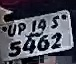1: (32, 19, 39, 33)
2: (51, 31, 64, 51)
4: (21, 36, 37, 57), (37, 19, 48, 32)
5: (9, 42, 22, 58)
6: (37, 34, 51, 52)
P: (17, 22, 26, 37)
S: (50, 14, 60, 30)
U: (8, 22, 17, 40)
